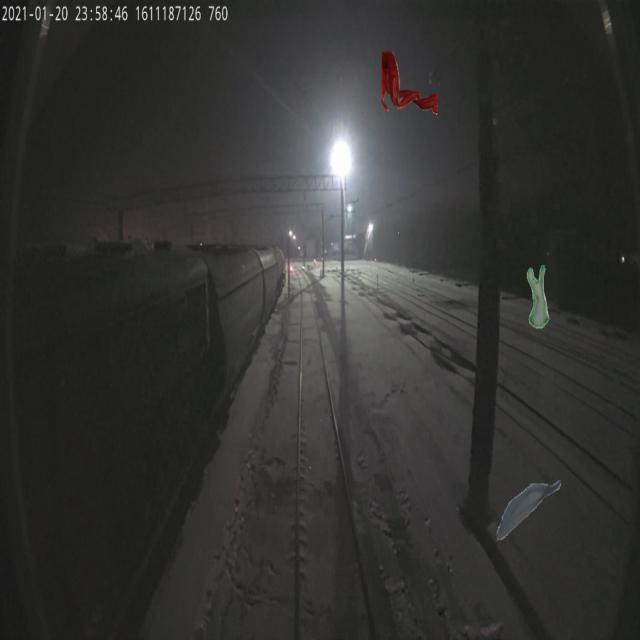floating object: (495, 478, 561, 542), (382, 51, 438, 115)
plastic bag: (527, 264, 549, 328)
